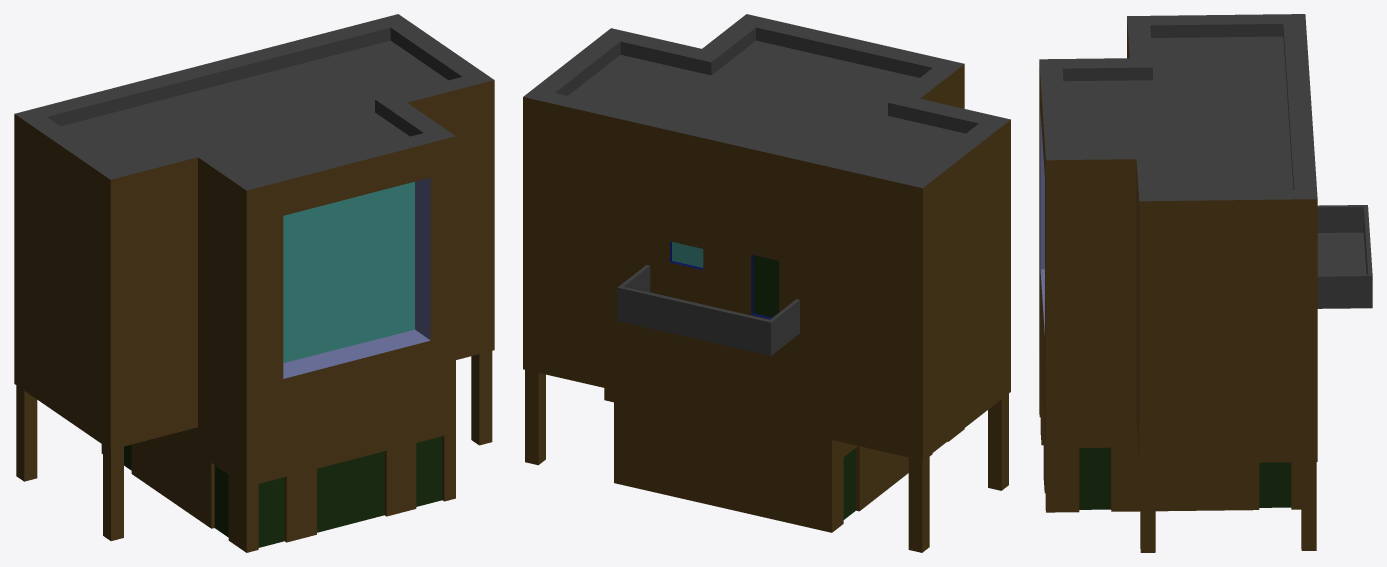
File: CityHouse03.FBX
3 views of the same model, side by side, from view 1: azimuth 30°, elevation 25°; view 2: azimuth 150°, elevation 25°; view 3: azimuth 270°, elevation 25° (orthographic). The views are drawn at different scales.
Parts seen in each view (by area): view 1: CityHouse03; view 2: CityHouse03; view 3: CityHouse03.
Boxes of the visible parts, left/top/right/bottom form: CityHouse03: left=14, top=14, right=494, bottom=552; CityHouse03: left=523, top=14, right=1010, bottom=552; CityHouse03: left=1039, top=14, right=1372, bottom=552.
Size of the model in its own units: 2292 by 2011 by 1725.
